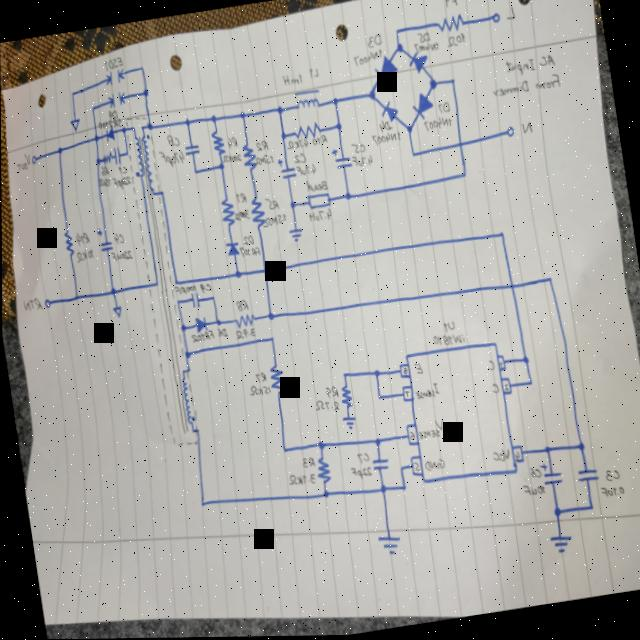capacitor: (537, 460, 562, 487), (330, 146, 352, 171), (275, 156, 297, 180), (574, 466, 598, 487), (95, 225, 113, 252), (369, 456, 389, 472), (183, 142, 201, 157), (110, 145, 121, 166), (188, 291, 200, 309)
crossover: (506, 282, 515, 293), (260, 265, 268, 276), (456, 140, 463, 150)
diode: (409, 91, 435, 122), (372, 54, 399, 83), (406, 50, 429, 76), (379, 99, 399, 125), (223, 240, 240, 258), (193, 315, 207, 334), (103, 126, 115, 142)
ground: (374, 532, 402, 558), (547, 533, 573, 557), (340, 415, 356, 432), (287, 227, 303, 244), (109, 302, 123, 320), (69, 117, 81, 132)
inductor: (139, 134, 154, 192), (176, 375, 193, 426), (293, 89, 322, 113), (133, 134, 146, 176), (305, 191, 331, 210)
junction: (550, 506, 562, 520), (426, 79, 437, 92), (574, 440, 585, 453), (367, 89, 376, 102), (208, 112, 217, 124), (232, 269, 241, 280), (316, 440, 325, 451), (404, 124, 413, 135), (287, 199, 296, 210), (265, 310, 274, 321), (520, 355, 529, 366), (585, 503, 594, 514), (140, 87, 149, 98), (108, 286, 117, 297), (378, 484, 387, 495), (394, 43, 402, 54), (372, 436, 380, 447), (542, 445, 550, 456), (372, 368, 380, 379), (238, 109, 246, 120), (279, 445, 287, 456), (545, 275, 553, 286), (197, 498, 205, 509), (497, 230, 505, 241), (448, 76, 456, 86), (276, 105, 283, 116), (320, 488, 327, 499), (145, 122, 153, 131), (331, 97, 338, 107), (183, 117, 190, 127), (56, 145, 63, 155), (340, 370, 347, 380), (214, 317, 221, 327), (408, 150, 415, 160), (343, 192, 350, 202), (191, 167, 199, 175), (183, 349, 190, 358), (399, 483, 406, 492), (397, 464, 404, 473), (393, 27, 400, 36), (525, 379, 532, 388), (335, 123, 342, 132), (179, 323, 186, 332), (267, 335, 274, 344), (460, 171, 467, 180), (92, 133, 99, 142), (120, 125, 127, 134), (279, 131, 286, 140), (72, 292, 79, 301), (138, 64, 145, 72), (217, 162, 224, 170), (94, 157, 100, 166), (375, 394, 381, 402), (153, 280, 159, 288), (130, 125, 136, 132), (189, 427, 195, 433), (173, 279, 178, 286), (210, 295, 215, 302), (70, 90, 75, 96), (159, 190, 164, 196), (175, 298, 180, 304), (140, 125, 145, 131), (185, 367, 190, 373), (180, 368, 185, 374), (194, 427, 199, 433), (123, 151, 128, 157), (90, 105, 95, 111), (151, 190, 156, 196)
resistor: (436, 13, 466, 35), (248, 194, 266, 230), (267, 362, 286, 396), (292, 121, 320, 142), (239, 142, 258, 172), (218, 196, 236, 227), (314, 455, 332, 485), (209, 128, 226, 157), (337, 383, 353, 410), (61, 229, 75, 256), (233, 313, 255, 330), (101, 150, 113, 165)
terminal: (489, 11, 501, 26), (503, 126, 515, 141), (43, 297, 51, 308), (29, 154, 36, 165)
text: (490, 73, 560, 99), (503, 54, 555, 79), (415, 419, 446, 442), (431, 330, 465, 349), (351, 48, 383, 68), (285, 469, 315, 489), (157, 148, 185, 169), (421, 115, 452, 133), (370, 130, 401, 147), (412, 382, 439, 401), (598, 484, 624, 501), (312, 398, 338, 415), (280, 70, 303, 88), (520, 482, 544, 499), (347, 464, 371, 481), (304, 177, 328, 194), (351, 152, 374, 169), (444, 32, 466, 49), (307, 208, 331, 223), (190, 329, 214, 344), (422, 457, 444, 473), (172, 282, 197, 296), (247, 382, 270, 397), (263, 212, 286, 227), (413, 41, 439, 54), (295, 162, 316, 178), (96, 117, 121, 130), (109, 248, 132, 262), (285, 137, 308, 151), (22, 296, 42, 312), (490, 448, 510, 464), (74, 247, 94, 263), (103, 56, 123, 72), (111, 174, 131, 190), (238, 244, 259, 259), (15, 153, 31, 172), (234, 326, 255, 340), (602, 468, 620, 484), (74, 229, 90, 247), (255, 153, 274, 167), (322, 385, 338, 401), (377, 118, 393, 134), (366, 34, 382, 50), (220, 152, 241, 164), (264, 196, 279, 212), (299, 455, 315, 470), (349, 142, 366, 156), (233, 298, 248, 313), (164, 133, 180, 147), (527, 465, 541, 481), (233, 208, 250, 221), (354, 451, 369, 465), (310, 134, 327, 146), (440, 320, 454, 334), (253, 370, 267, 384), (198, 281, 212, 295), (436, 101, 450, 115), (416, 31, 430, 45), (503, 6, 515, 22), (214, 325, 227, 339), (255, 139, 268, 153), (225, 135, 238, 149), (519, 121, 532, 135), (111, 231, 124, 245), (234, 192, 247, 205), (293, 152, 306, 165), (412, 362, 423, 377), (97, 176, 110, 188), (307, 66, 318, 79), (107, 108, 118, 121), (443, 0, 457, 10), (241, 235, 253, 246), (489, 382, 499, 395), (484, 359, 494, 372), (117, 164, 127, 175), (100, 165, 109, 176), (412, 461, 419, 473), (407, 430, 414, 441), (403, 390, 409, 399), (501, 383, 507, 392), (497, 361, 502, 371), (513, 451, 518, 461), (401, 367, 407, 375)
